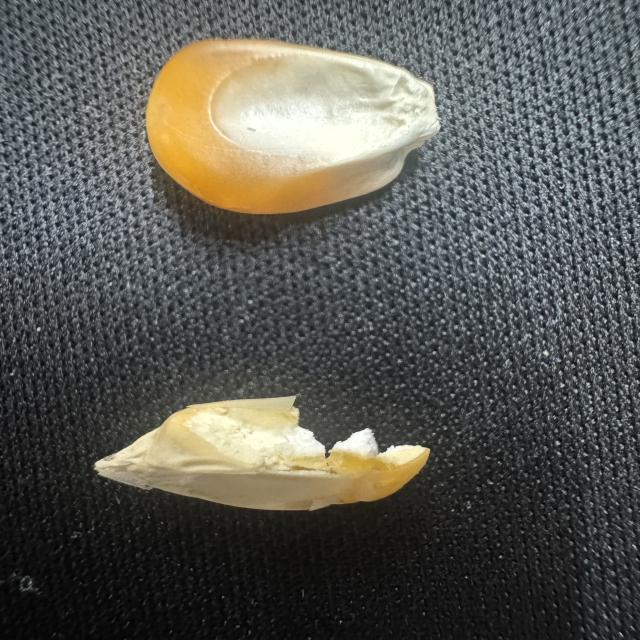Bad-Seed: (74, 384, 438, 534)
Good-Seed: (132, 29, 453, 224)
